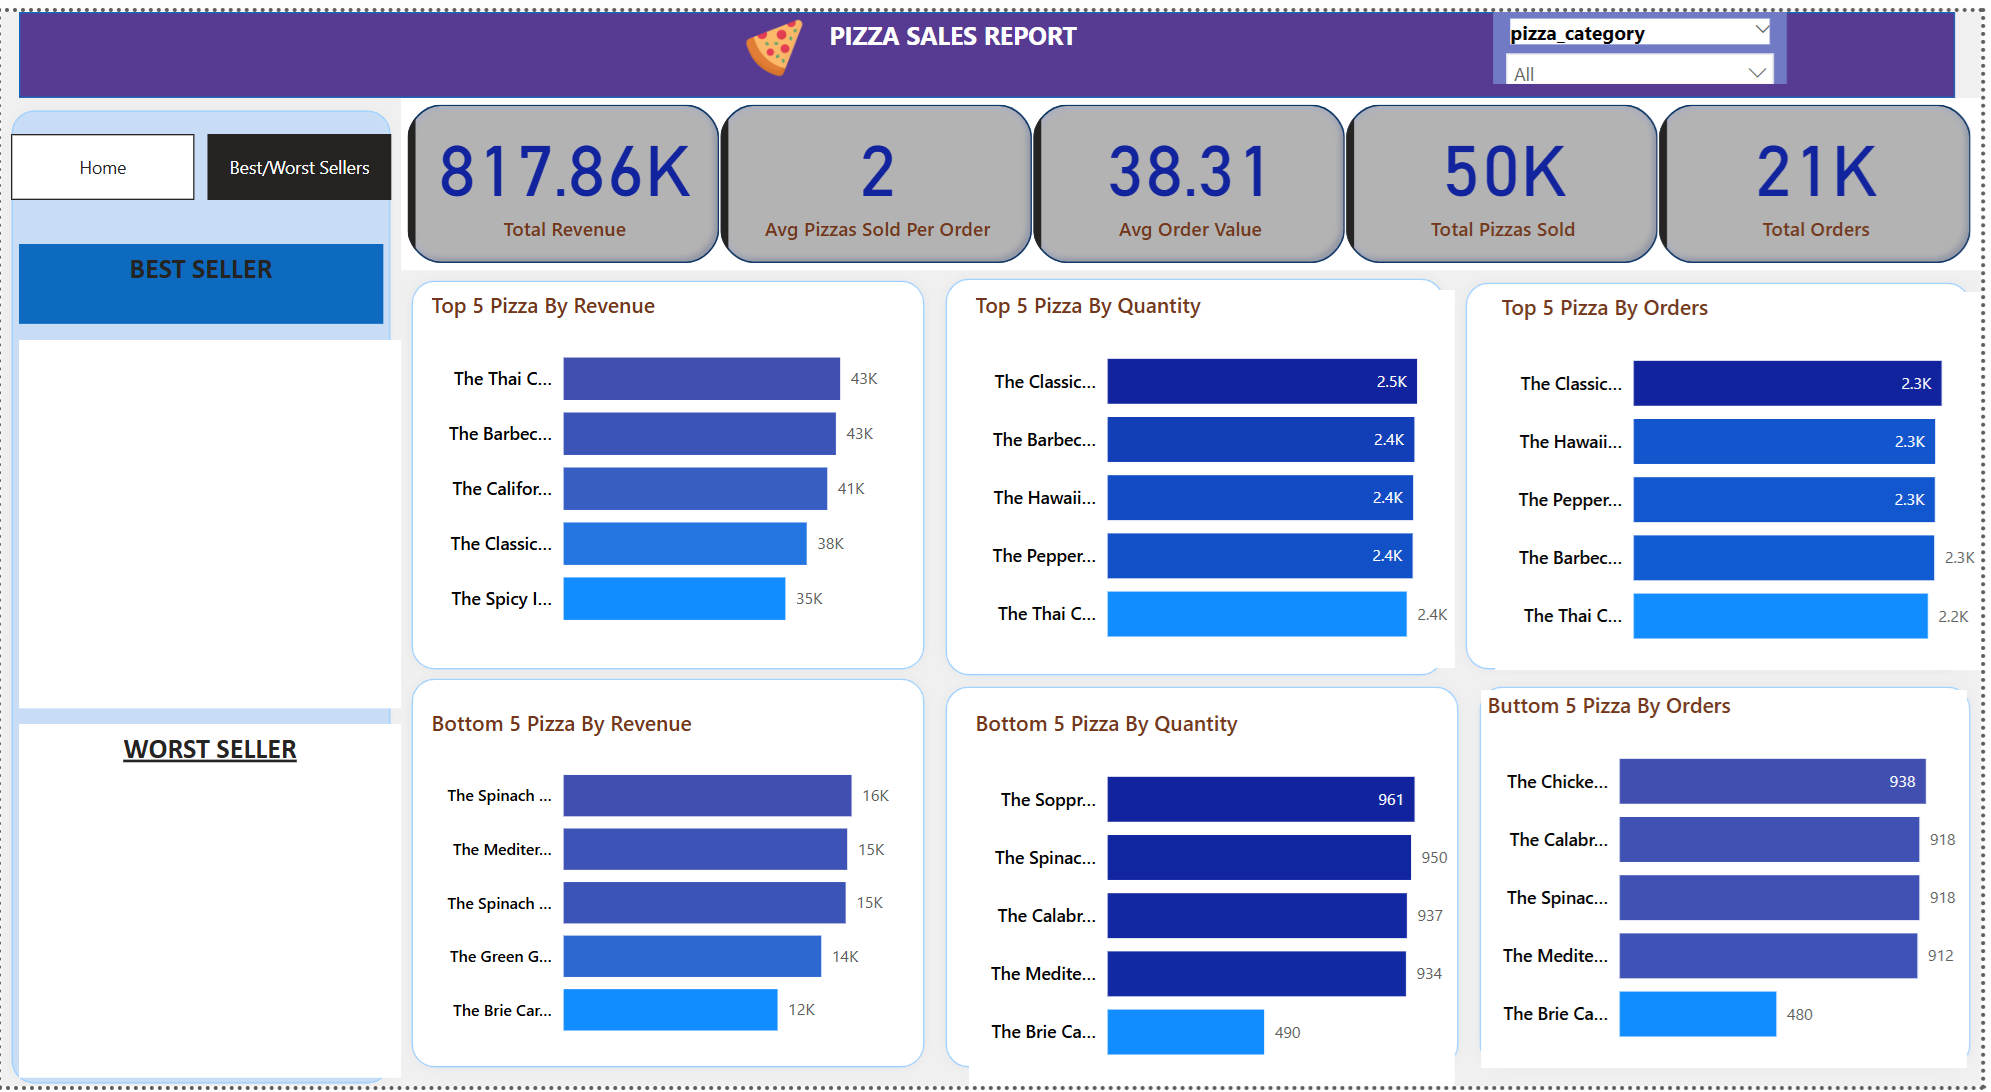

This screenshot's page, from the dashboard's own definition file:
{"tool":"powerbi","page":{"name":"Best/Worst Sellers","canvas":[1500,820],"ordinal":1},"visuals":[{"type":"shape","box":[0,66.7,303,753],"z":0},{"type":"cardVisual","fields":{"Data":["pizza_sales.Total Revenue","pizza_sales.Avg Pizzas Sold Per Order","pizza_sales.Avg Order Value","pizza_sales.Total Pizzas Sold","pizza_sales.Total Orders"]},"box":[303,65.2,1197,130.3],"z":1000},{"type":"shape","box":[13.6,0,1466.7,65.2],"z":2000},{"type":"textbox","box":[616.7,0,209.1,66.7],"z":3000},{"type":"image","box":[554.5,0,62.1,54.5],"z":4000},{"type":"textbox","box":[13.6,175.8,275.8,60.6],"z":5000},{"type":"shape","box":[303,195.5,404.5,310.6],"z":6000},{"type":"shape","box":[707.6,193.9,393.9,316.7],"z":7000},{"type":"shape","box":[1101.5,197,398.5,309.1],"z":8000},{"type":"textbox","box":[13.6,248.5,289.4,278.8],"z":9000},{"type":"textbox","box":[13.6,539.4,289.4,268.2],"z":10000},{"type":"slicer","fields":{"Values":["pizza_sales.pizza_category"]},"box":[1130.3,0,222.7,54.5],"z":11000},{"type":"shape","box":[303,497,404.5,310.6],"z":12000},{"type":"shape","box":[707.6,503,404.5,304.5],"z":13000},{"type":"shape","box":[1112.1,503,387.9,304.5],"z":14000},{"type":"barChart","title":"Top 5 Pizza By Revenue","fields":{"Y":["pizza_sales.Total Revenue"],"Category":["pizza_sales.pizza_name"]},"box":[321.2,210.6,368.2,272.7],"z":15000},{"type":"barChart","title":"Bottom 5 Pizza By Revenue","fields":{"Y":["pizza_sales.Total Revenue"],"Category":["pizza_sales.pizza_name"]},"box":[321.2,527.3,368.2,266.7],"z":16000},{"type":"barChart","title":"Top 5 Pizza By Quantity","fields":{"Category":["pizza_sales.pizza_name"],"Y":["pizza_sales.Total Pizzas Sold"]},"box":[733.3,210.6,368.2,286.4],"z":17000},{"type":"barChart","title":"Bottom 5 Pizza By Quantity","fields":{"Category":["pizza_sales.pizza_name"],"Y":["pizza_sales.Total Pizzas Sold"]},"box":[733.3,527.3,368.2,286.4],"z":18000},{"type":"barChart","title":"Top 5 Pizza By Orders","fields":{"Category":["pizza_sales.pizza_name"],"Y":["pizza_sales.Total Orders"]},"box":[1131.8,212.1,368.2,286.4],"z":19000},{"type":"barChart","title":"Buttom 5 Pizza By Orders","fields":{"Category":["pizza_sales.pizza_name"],"Y":["pizza_sales.Total Orders"]},"box":[1121.2,513.6,368.2,286.4],"z":20000},{"type":"pageNavigator","box":[7.6,92.4,289.4,50],"z":21000}]}

Visuals, with their boxes in screenshot pixels (x1, y1, x2, y2), scaled from the page's 1500x820 canvas onto the 1991x1092 screenshot:
shape: [0, 89, 402, 1091]
cardVisual - pizza_sales.Total Revenue x pizza_sales.Avg Pizzas Sold Per Order: [402, 87, 1990, 260]
shape: [18, 0, 1965, 87]
textbox: [819, 0, 1096, 89]
image: [736, 0, 818, 73]
textbox: [18, 234, 384, 315]
shape: [402, 260, 939, 674]
shape: [939, 258, 1462, 680]
shape: [1462, 262, 1990, 674]
textbox: [18, 331, 402, 702]
textbox: [18, 718, 402, 1075]
slicer - pizza_sales.pizza_category: [1500, 0, 1796, 73]
shape: [402, 662, 939, 1075]
shape: [939, 670, 1476, 1075]
shape: [1476, 670, 1990, 1075]
"Top 5 Pizza By Revenue" barChart: [426, 280, 915, 644]
"Bottom 5 Pizza By Revenue" barChart: [426, 702, 915, 1057]
"Top 5 Pizza By Quantity" barChart: [973, 280, 1462, 662]
"Bottom 5 Pizza By Quantity" barChart: [973, 702, 1462, 1084]
"Top 5 Pizza By Orders" barChart: [1502, 282, 1990, 664]
"Buttom 5 Pizza By Orders" barChart: [1488, 684, 1977, 1065]
pageNavigator: [10, 123, 394, 190]
